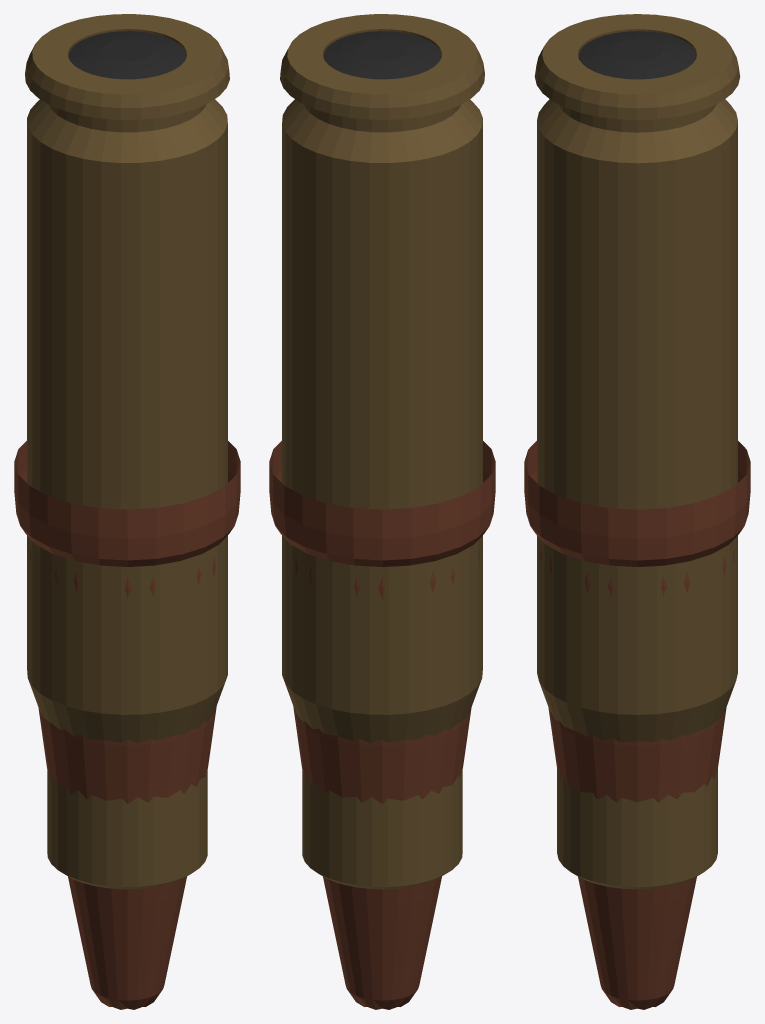
Rendered from bullet.FBX.
The picture shows the model from 3 angles, left to right: view 1: azimuth 30°, elevation 25°; view 2: azimuth 150°, elevation 25°; view 3: azimuth 270°, elevation 25°; orthographic projection.
Parts seen in each view (by area): view 1: shell, bullet; view 2: shell, bullet; view 3: shell, bullet.
Part boxes in pixels (x1=…): shell: x1=25, y1=14, x2=229, y2=889; bullet: x1=14, y1=441, x2=240, y2=1009; shell: x1=280, y1=14, x2=484, y2=889; bullet: x1=269, y1=441, x2=495, y2=1009; shell: x1=534, y1=14, x2=740, y2=889; bullet: x1=524, y1=441, x2=750, y2=1009.
Bounding box in the file's own units: 2.25 × 10.46 × 2.25.
